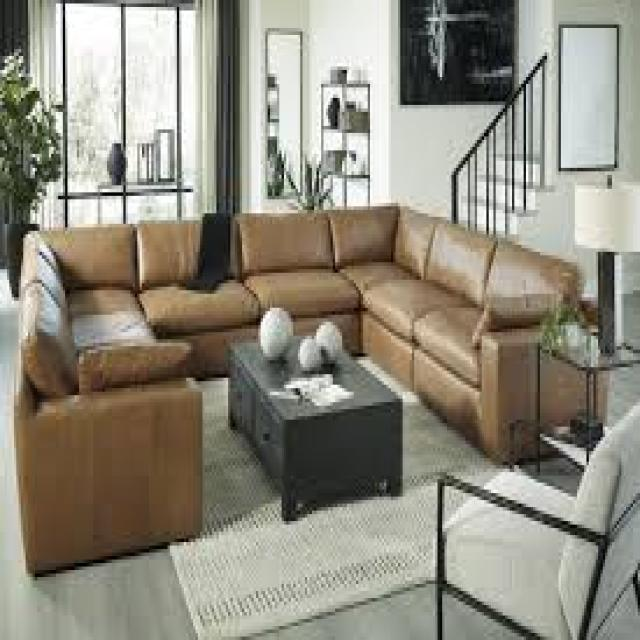Chair: (423, 412, 640, 640)
Lamp: (566, 164, 640, 334)
Sofa: (0, 159, 489, 360), (348, 198, 598, 452), (17, 222, 203, 563)
Table: (217, 322, 397, 517), (544, 321, 640, 486)
